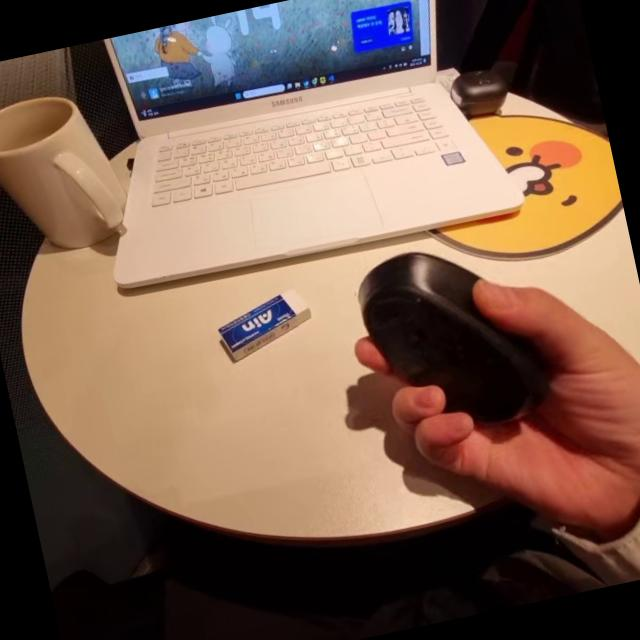eraser: (204, 281, 320, 367)
grab_mouse: (331, 202, 640, 533)
mouse: (342, 223, 562, 447)
